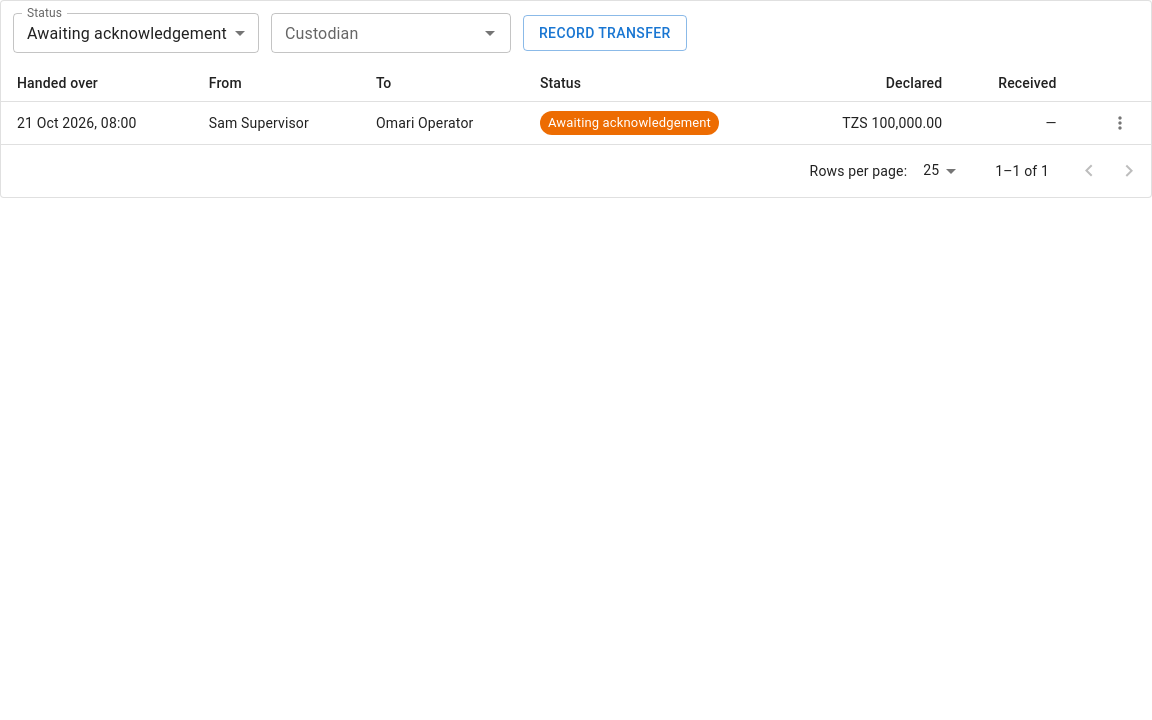
it: TransfersTab › lets the receiver acknowledge the amount actually received
Click the button named "Actions for transfer Sam Supervisor to Omari Operator" at (1120, 123), box left=1105, top=108, right=1135, bottom=138
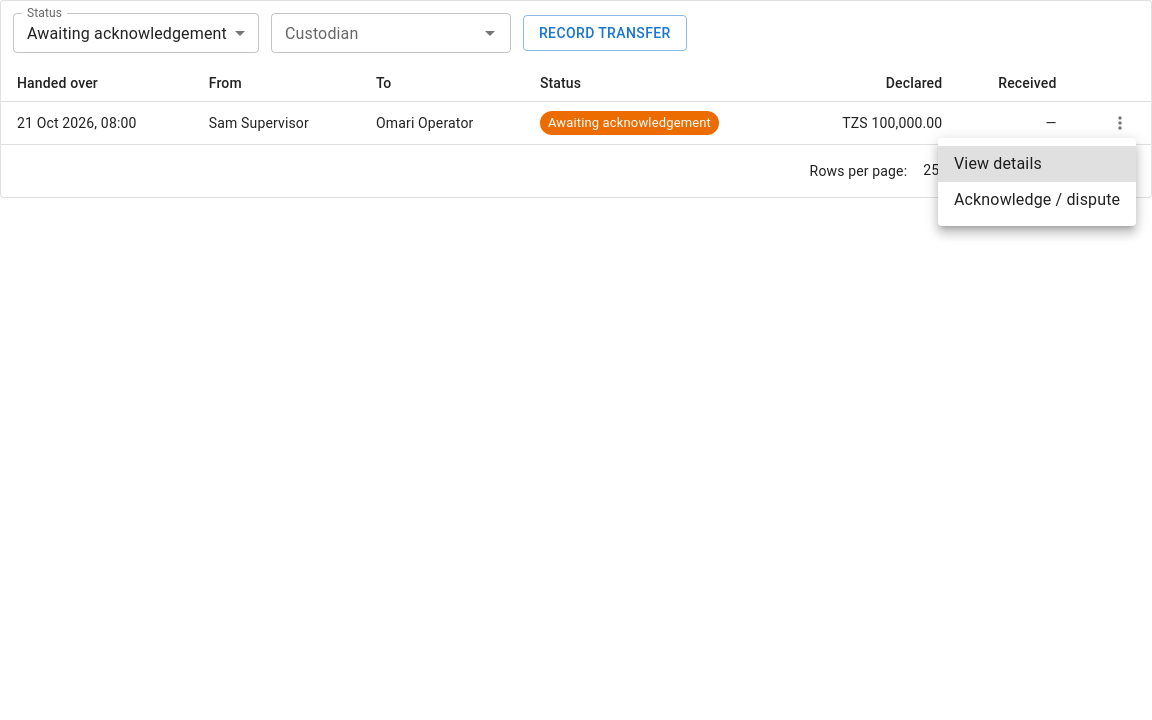
Click the menu item "Acknowledge / dispute" at (1037, 200), box left=954, top=190, right=1120, bottom=209
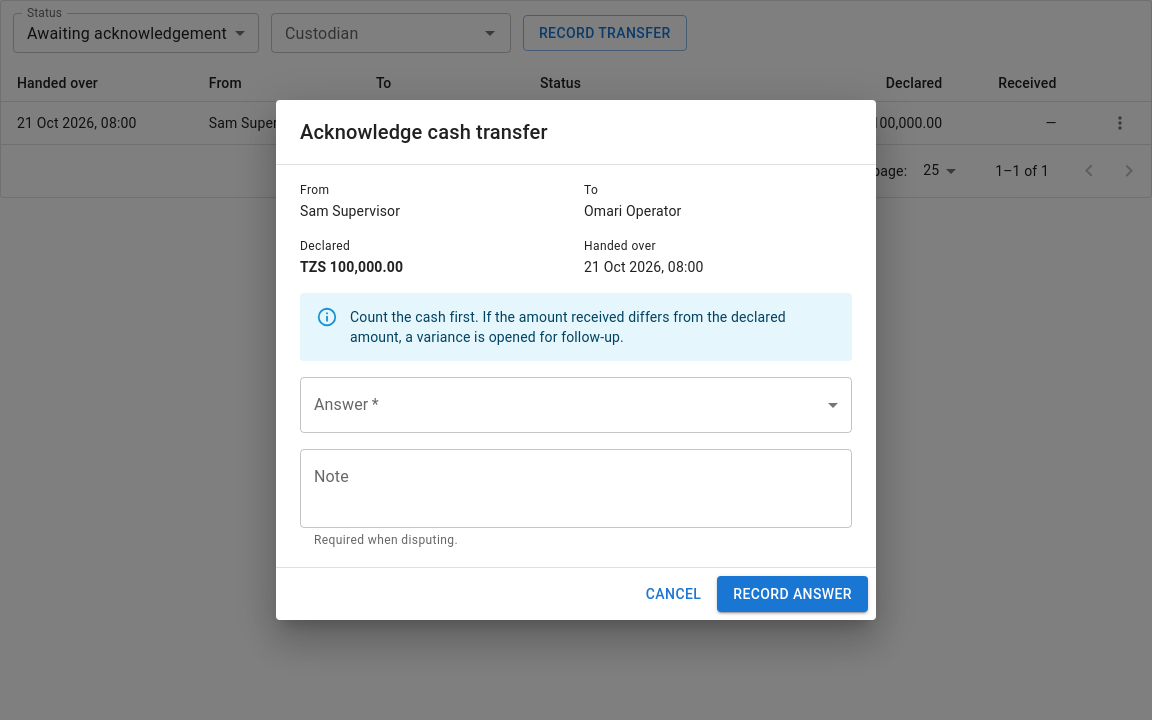
Click the dropdown named "Answer" at (576, 405), box left=300, top=377, right=852, bottom=433
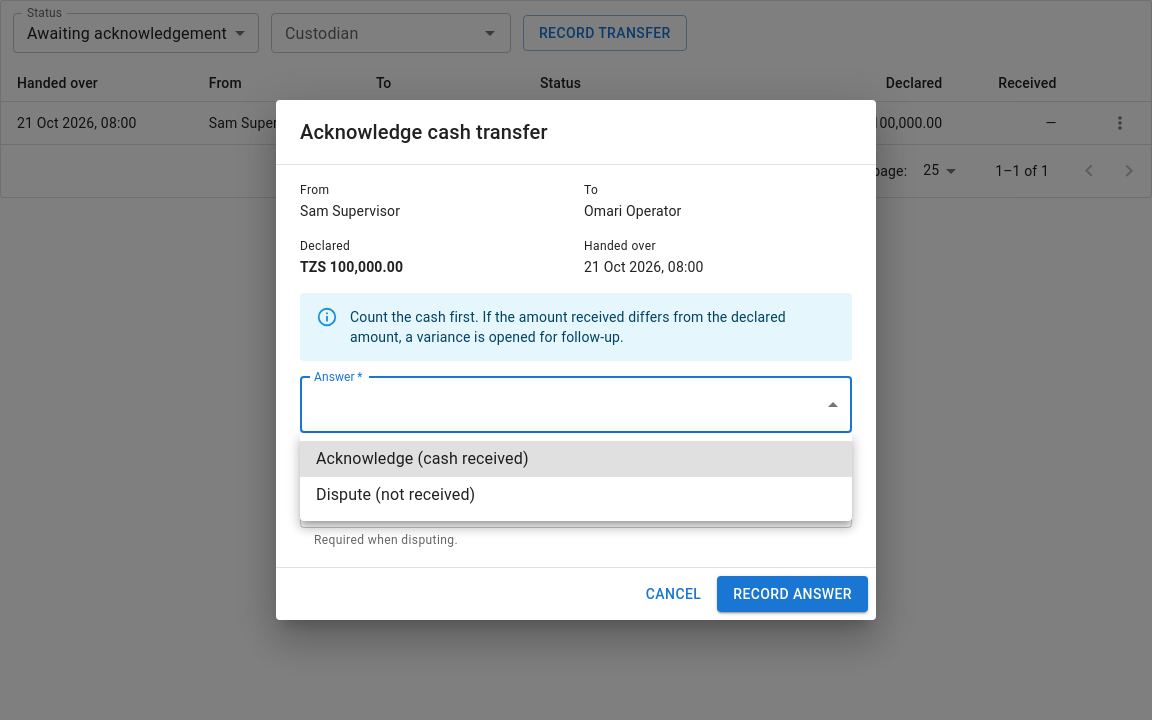
Click the option "Acknowledge (cash received)" at (422, 458), box left=300, top=441, right=852, bottom=477
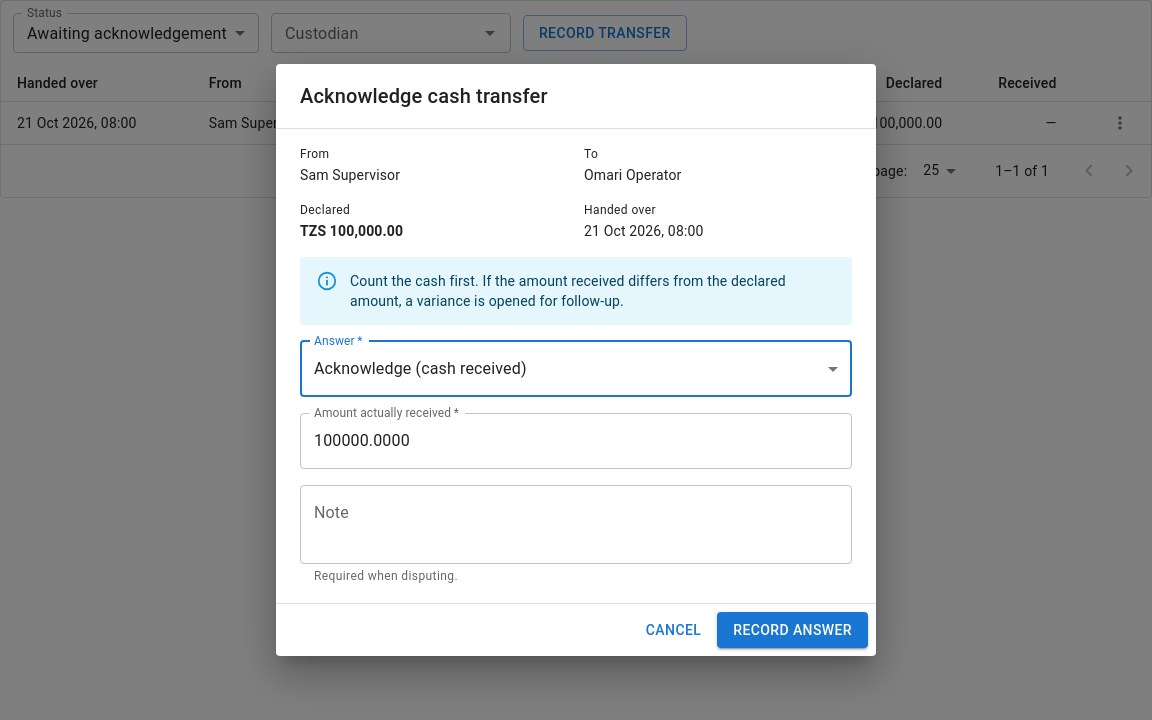
Replace the text in the field labelled "Amount actually received *" with "90000" at (576, 441), box left=300, top=413, right=852, bottom=469
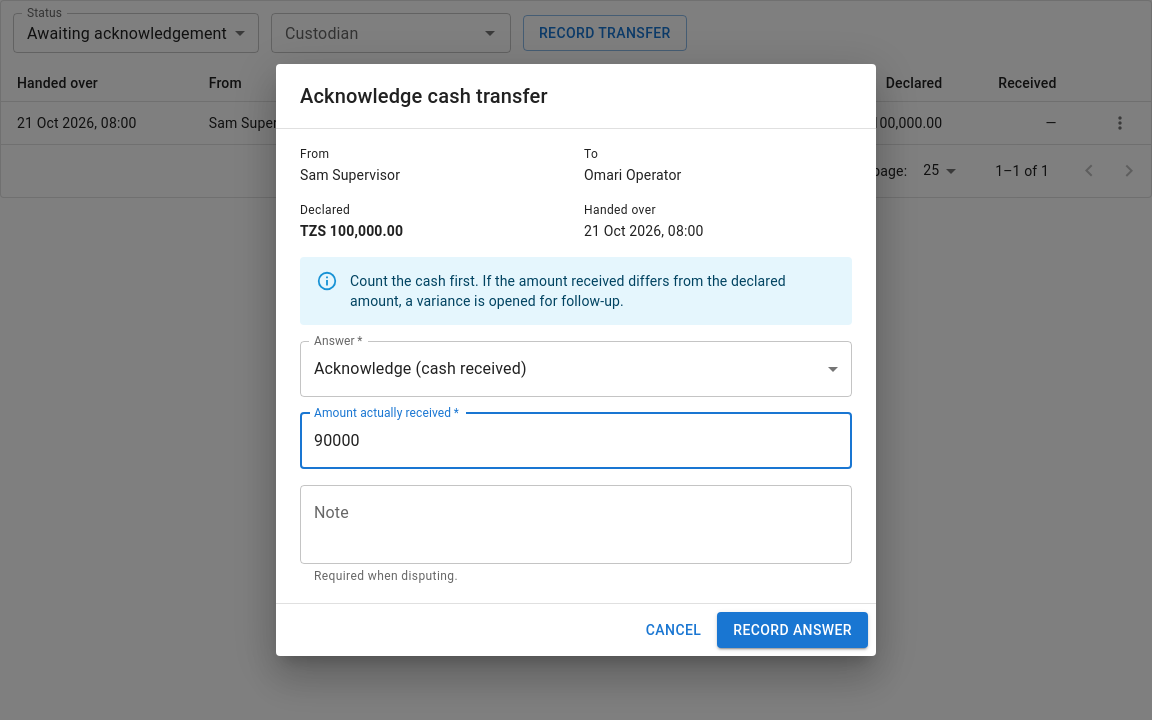
Click the button "Record answer" at (793, 630), box left=717, top=612, right=868, bottom=648
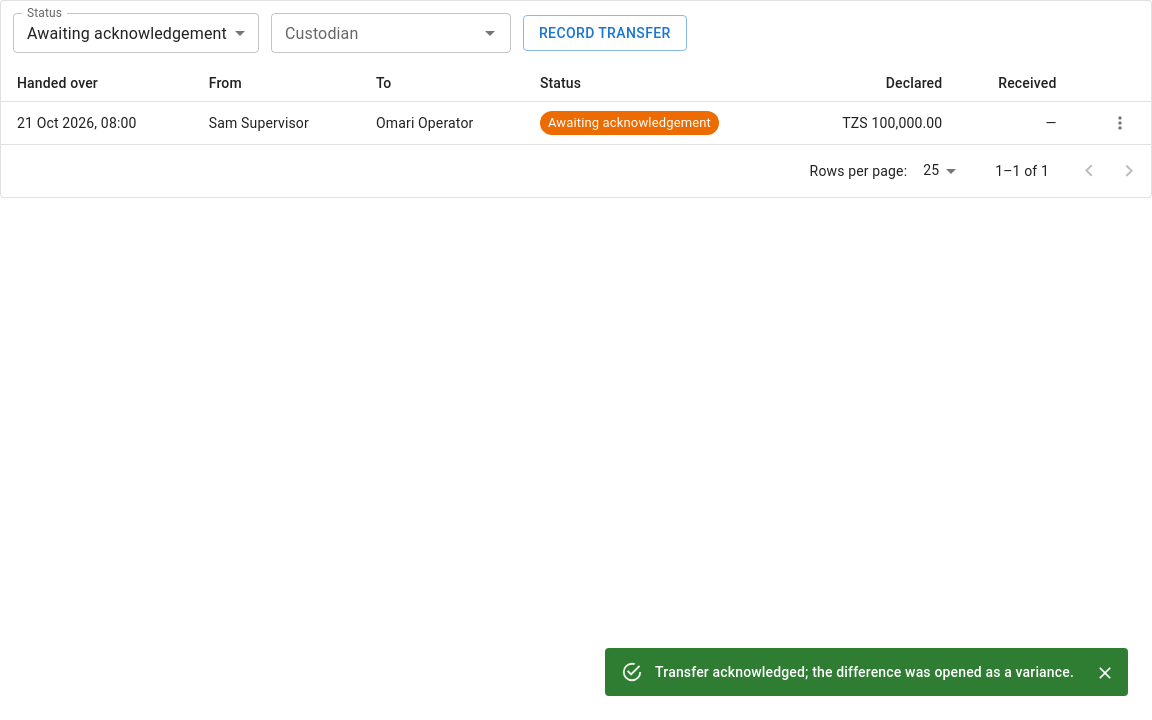
Expected: the text "Transfer acknowledged; the difference was opened as a variance." is shown, left=655, top=664, right=1074, bottom=680
